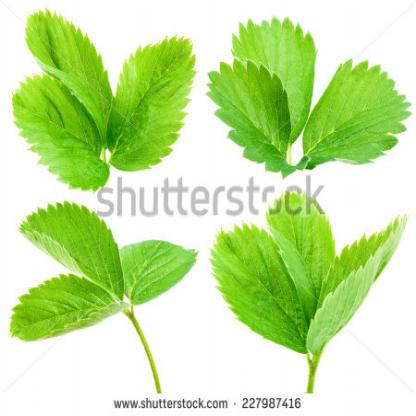strawberry leaf: (214, 221, 321, 354), (21, 5, 118, 142), (104, 34, 197, 163), (305, 61, 411, 171), (228, 7, 308, 151), (21, 198, 124, 293), (7, 277, 127, 344), (119, 229, 202, 311)
